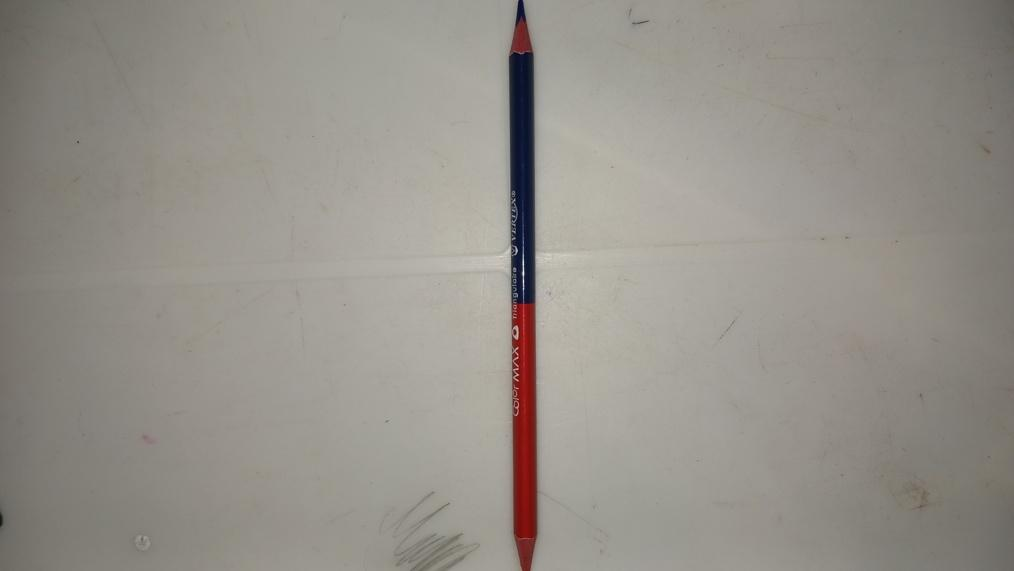Pencil: (510, 2, 535, 571)
